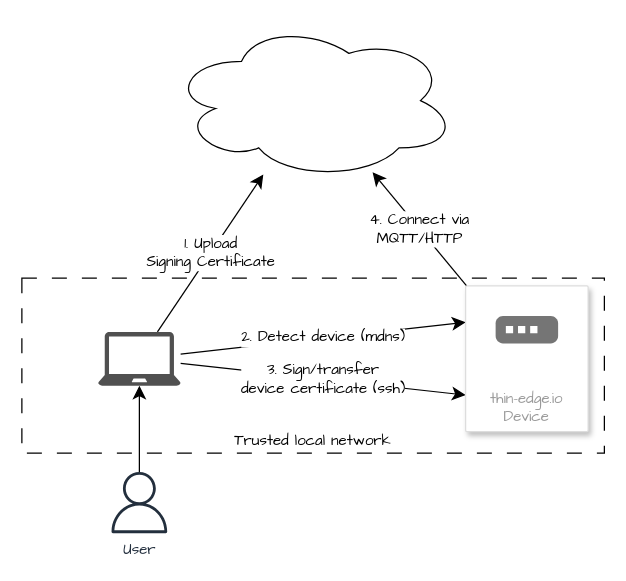
This 626x581 diagram has some shape labels left out. Here are the shapes that lost their labels. From the top down, the centre of each, then its label:
pixel 312 100: Cumulocity IoT
pixel 139 358: Local Computer
